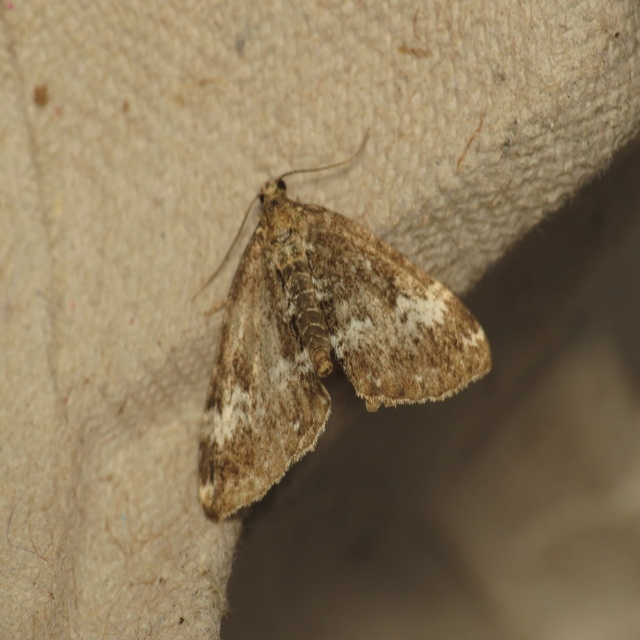Moths and butterflies: (190, 124, 497, 522)
